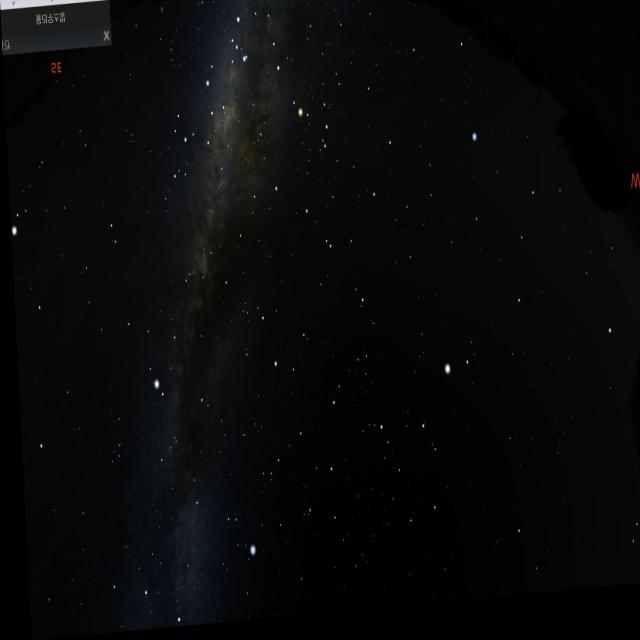aquila: (114, 255, 206, 440)
bootes: (391, 328, 488, 535)
lyra: (217, 506, 256, 564)
sagittarius: (149, 64, 240, 192)
scorpius: (230, 19, 334, 157)
